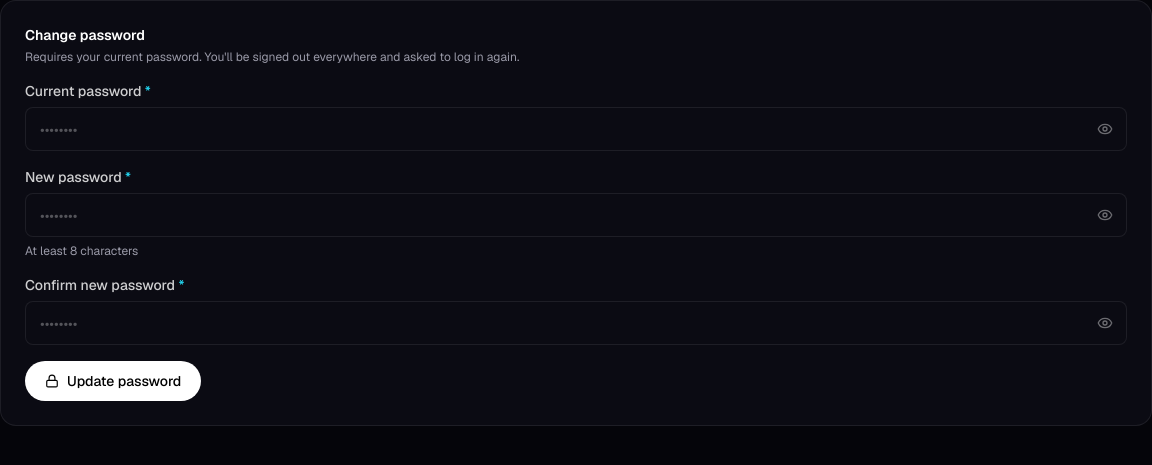
it: ChangePasswordSection — validation › requires the new password and confirmation to match
Type "myCurrentPassword1" into the password field labelled "Current password *" at {"x": 576, "y": 129}, box [25,107,1127,151]
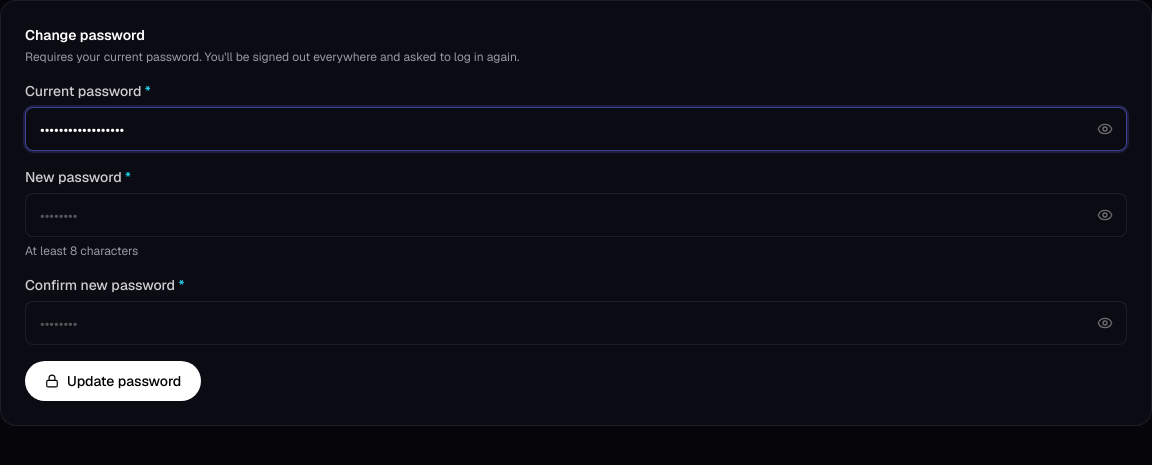
Type "aBrandNewPassword1" into the password field labelled "New password *" at {"x": 576, "y": 215}, box [25,193,1127,237]
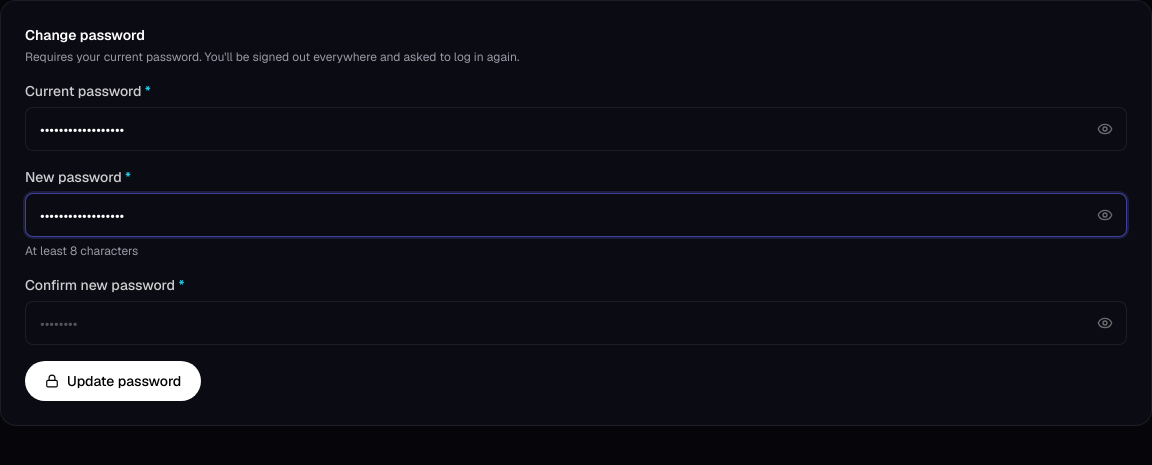
Type "aDifferentPassword1" into the password field labelled "Confirm new password *" at {"x": 576, "y": 323}, box [25,301,1127,345]
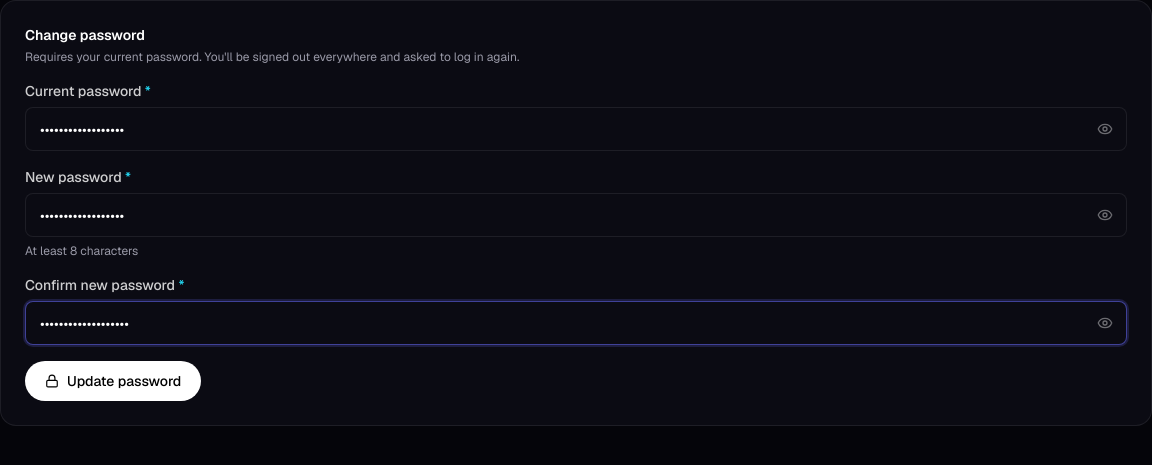
Click the button "Update password" at {"x": 113, "y": 381}, box [25,361,201,401]
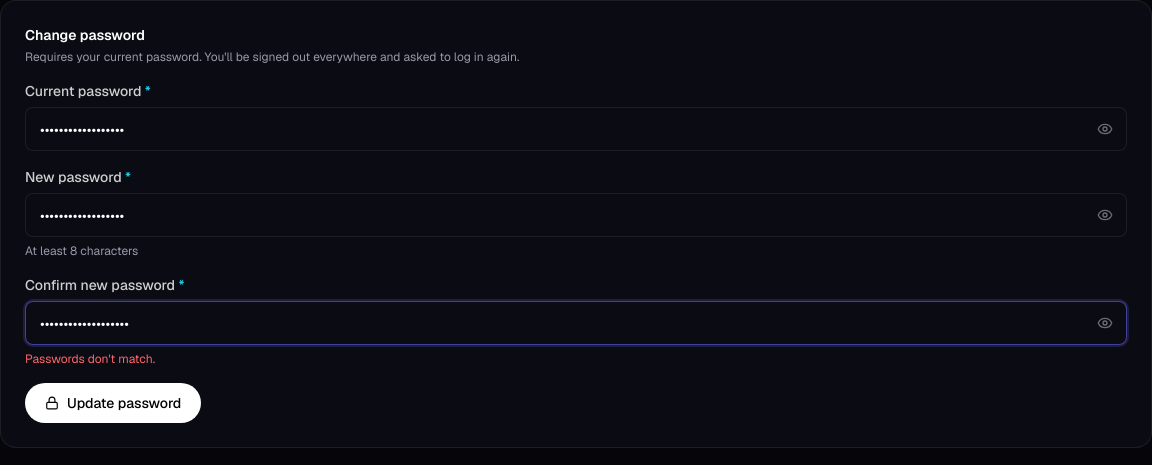
Now the text "Passwords don't match." is shown, box [25,351,155,367]
